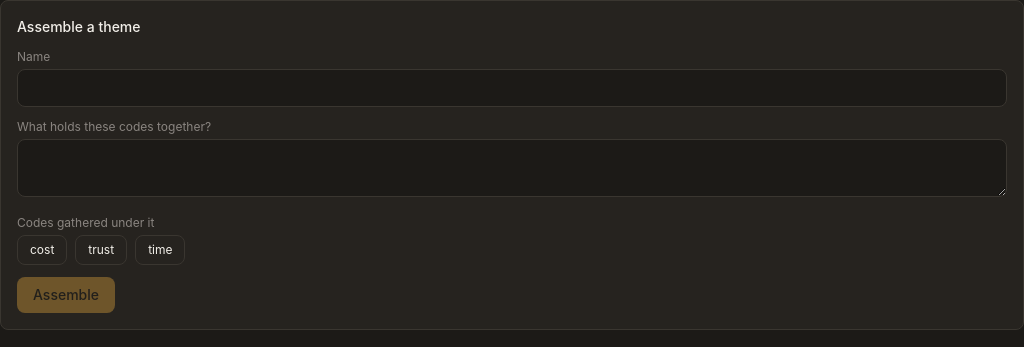
Test: a theme is what the codings make it › will not assemble without a name and at least one code
The image size is (1024, 347).
Expected: the button "Assemble" is disabled, [17,277,115,313]
Type "Cost" into the field labelled "Name" at point(512, 88), box [17,69,1007,107]
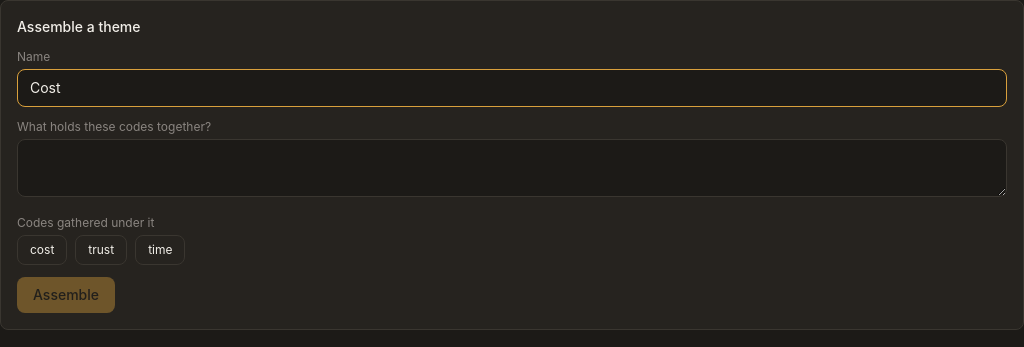
Expected: the button "Assemble" is disabled, [17,277,115,313]
Click the button "cost" at point(42, 250), box [17,235,67,265]
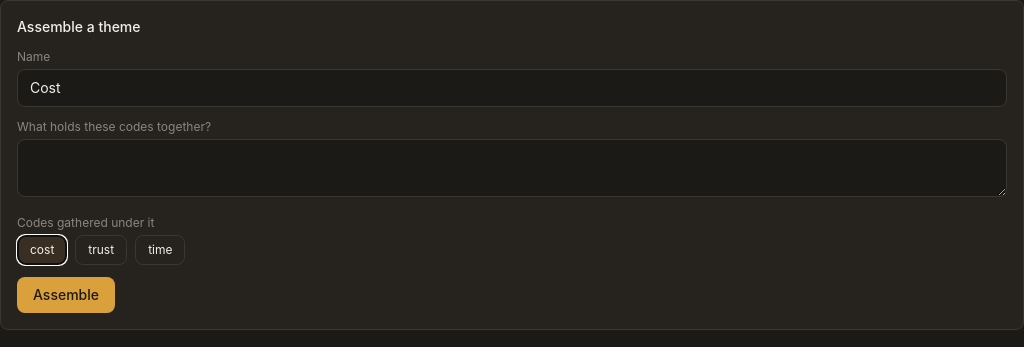
Result: the button "Assemble" is enabled at [17,277,115,313]
